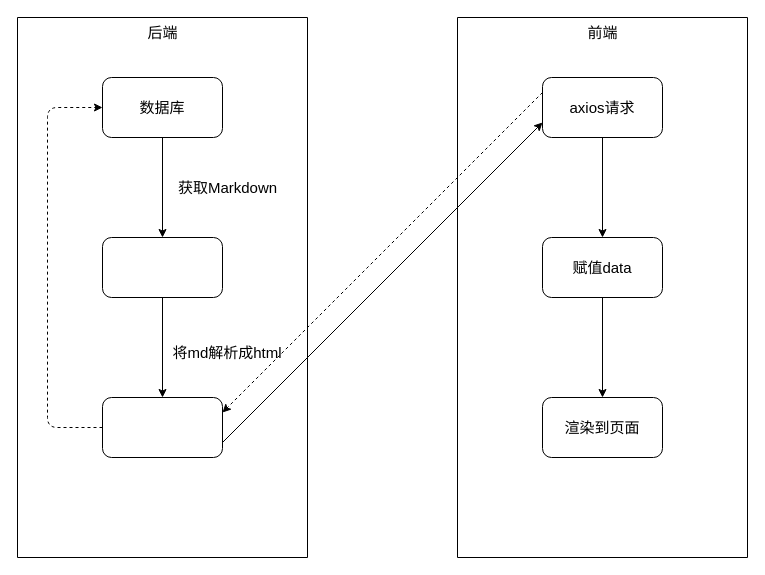
Some shapes in this 765 by 575 pixel diagram are drawn without their labels. Here are the shapes that lost their labels. From the top down, the centre of each, then its label:
(162,267): Mistune解析器
(162,427): API组装
